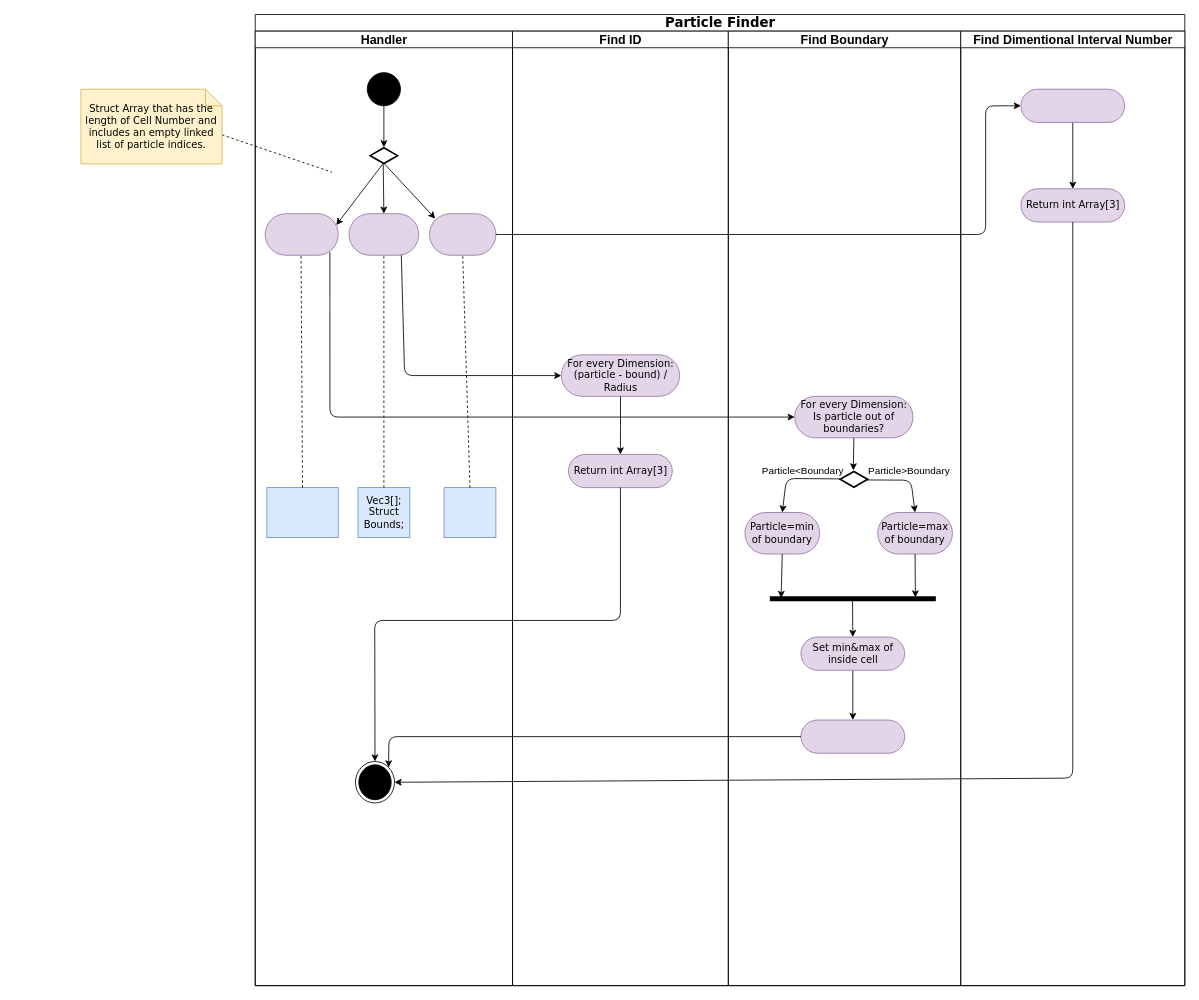
Image size: 1199x1000. Some labels were removed from this diagram. Each missing label, with the centre of its shape:
"For every Dimension: (max - min) / Radius" goes at (1072,105).
"int particleIndice; float radius; int distance" goes at (302,512).
"Return inside cell" goes at (852,736).
"Send bounds and radius" goes at (462,234).
"Send particleIndice, radius and distance" goes at (301,234).
"Send vector3 and bounds" goes at (383,234).
"Struct Bounds; float radius;" goes at (469,512).
